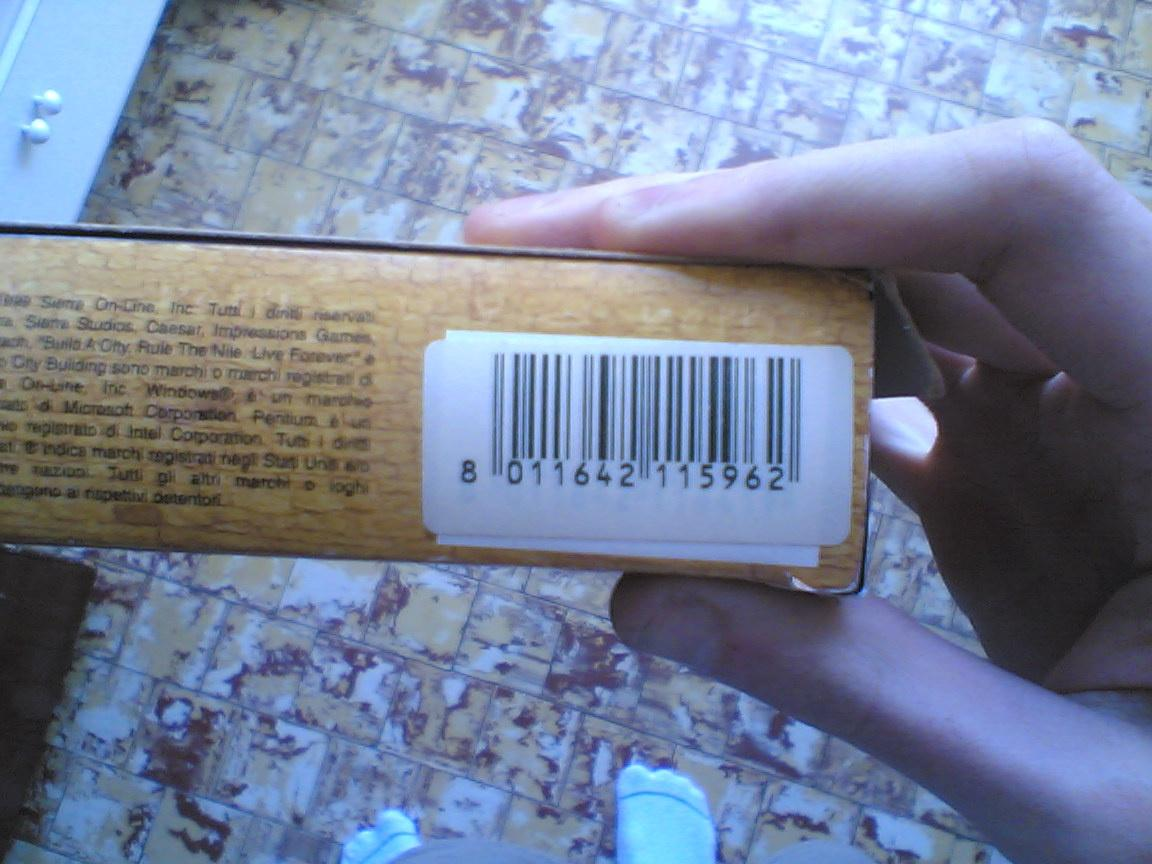Barcode: (445, 347, 812, 506)
